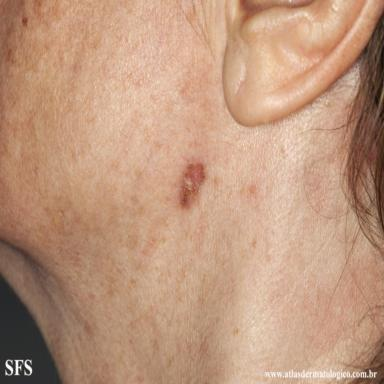basal-cell-carcinoma: (179, 163, 205, 207)
